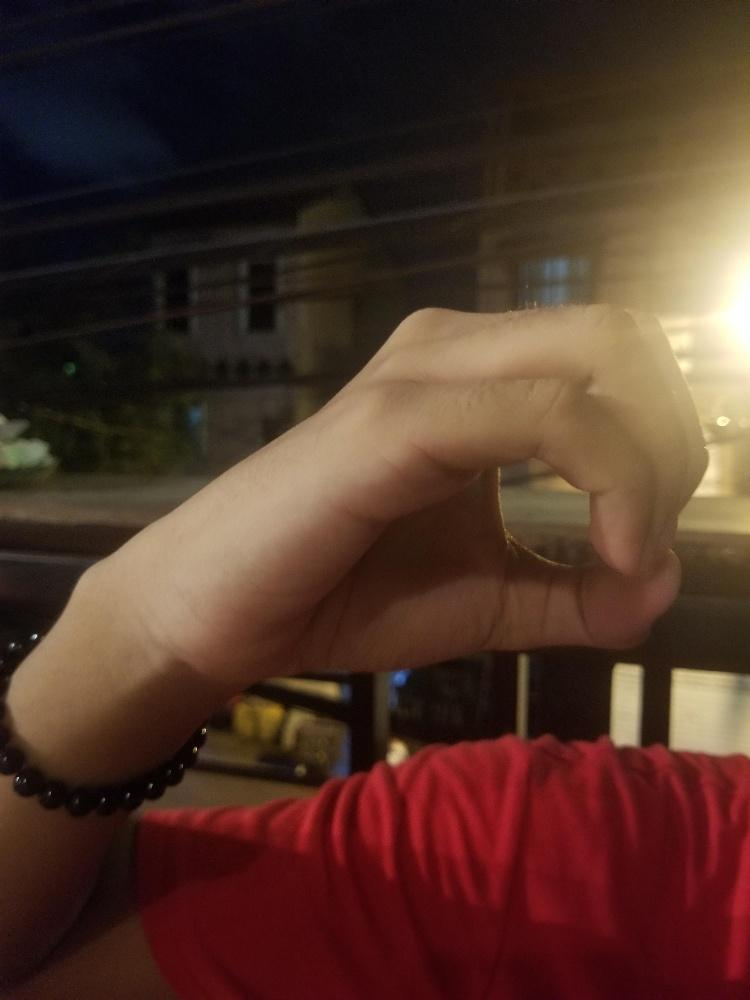o: (189, 296, 710, 659)
